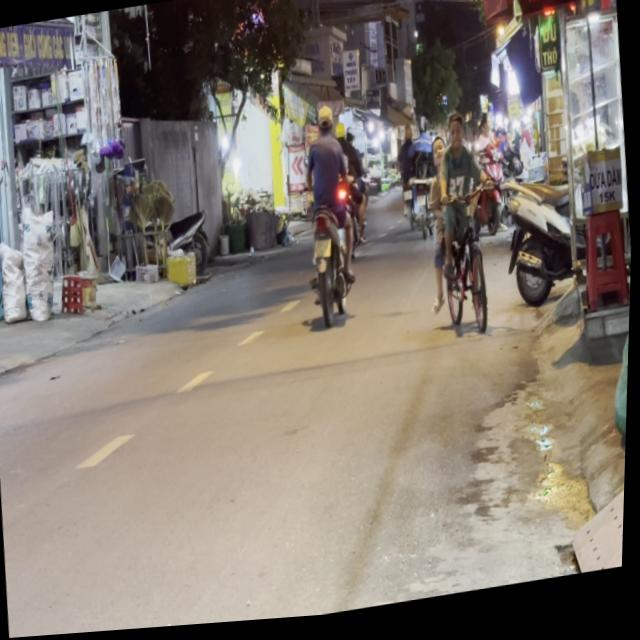licenseplate: (290, 100, 365, 332)
motorcyclist: (313, 106, 333, 138)
nohelmet: (313, 242, 332, 262)
